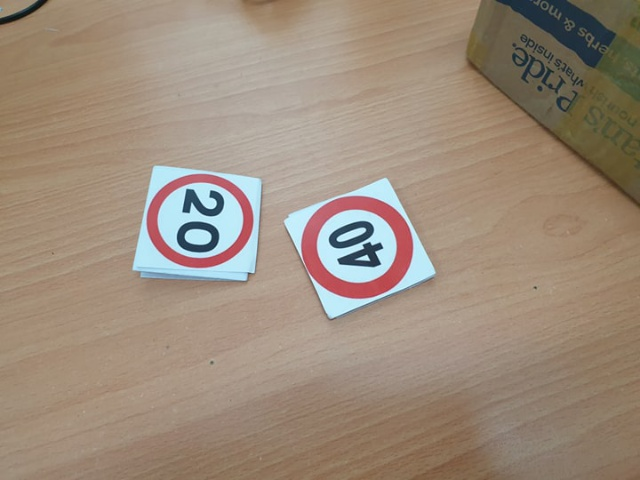Limit 20: (146, 171, 255, 264)
Limit 40: (301, 197, 415, 297)
